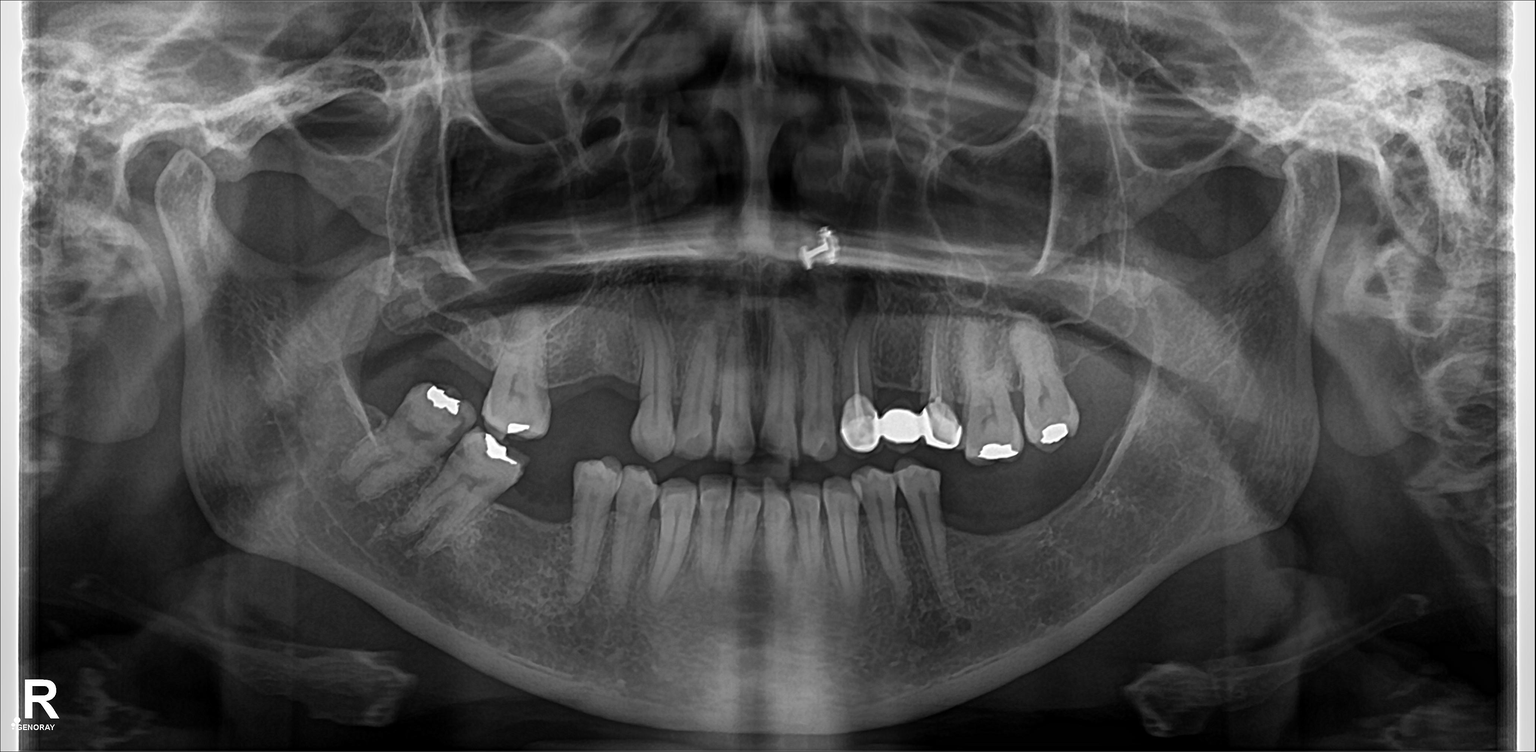Endodontically Treated Tooth: (844, 341, 879, 444), (927, 329, 956, 444)
Missing Tooth: (942, 478, 997, 605), (583, 322, 635, 435), (1075, 307, 1120, 428), (421, 298, 487, 378), (520, 471, 560, 587), (1006, 488, 1055, 578), (382, 290, 423, 389), (1076, 469, 1114, 575), (551, 322, 588, 426)
